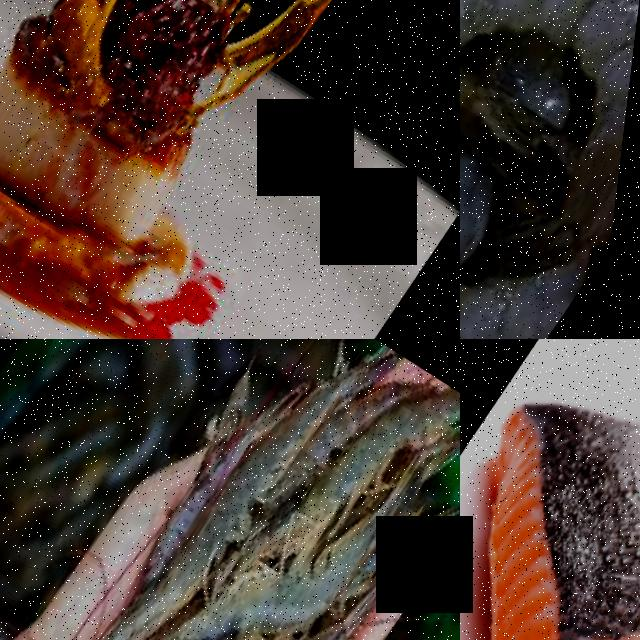salmon: (460, 339, 640, 640)
shrimp: (130, 339, 361, 640), (240, 339, 460, 600), (179, 470, 386, 640), (129, 379, 282, 599), (460, 0, 640, 146)
